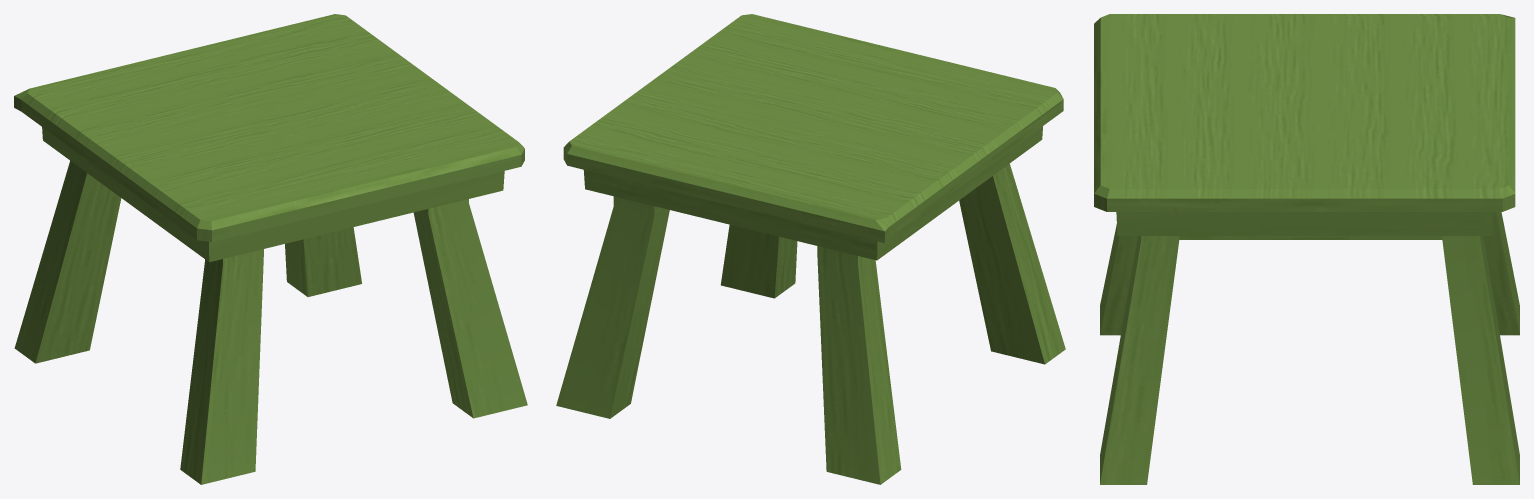
Rendered from Stool_D.FBX.
The picture shows the model from 3 angles, left to right: view 1: azimuth 30°, elevation 25°; view 2: azimuth 150°, elevation 25°; view 3: azimuth 270°, elevation 25°; orthographic projection. The views are drawn at different scales.
Parts seen in each view (by area): view 1: Stool; view 2: Stool; view 3: Stool.
Boxes of the visible parts, x1,y1,x2,y2 form: Stool: (14,14,527,484); Stool: (556,14,1065,484); Stool: (1094,14,1519,484).
Size of the model in its own units: 121 by 91.5 by 120.
